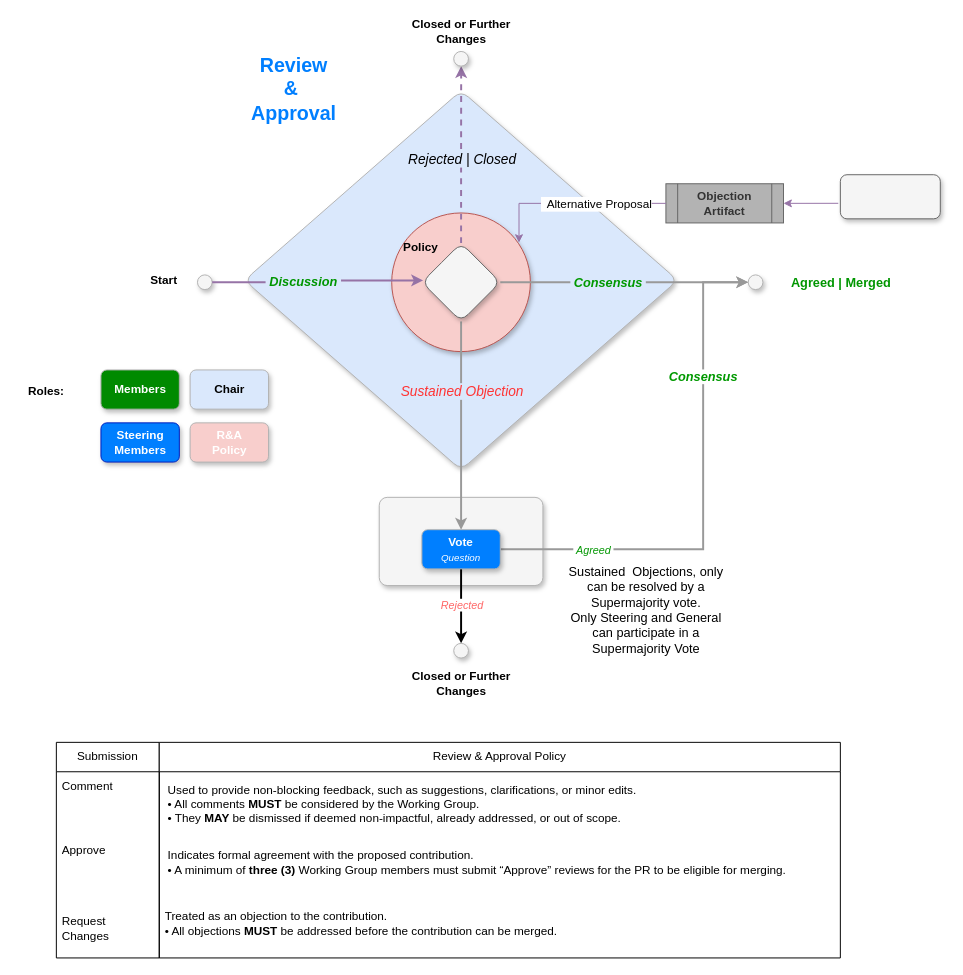
Image size: 963x975. Some labels were removed from this diagram. Here are the shapes that lost their labels. From the top down, the centre of each, then its label:
At point 890,198: "Member Objection".
At point 461,283: "Decision".
